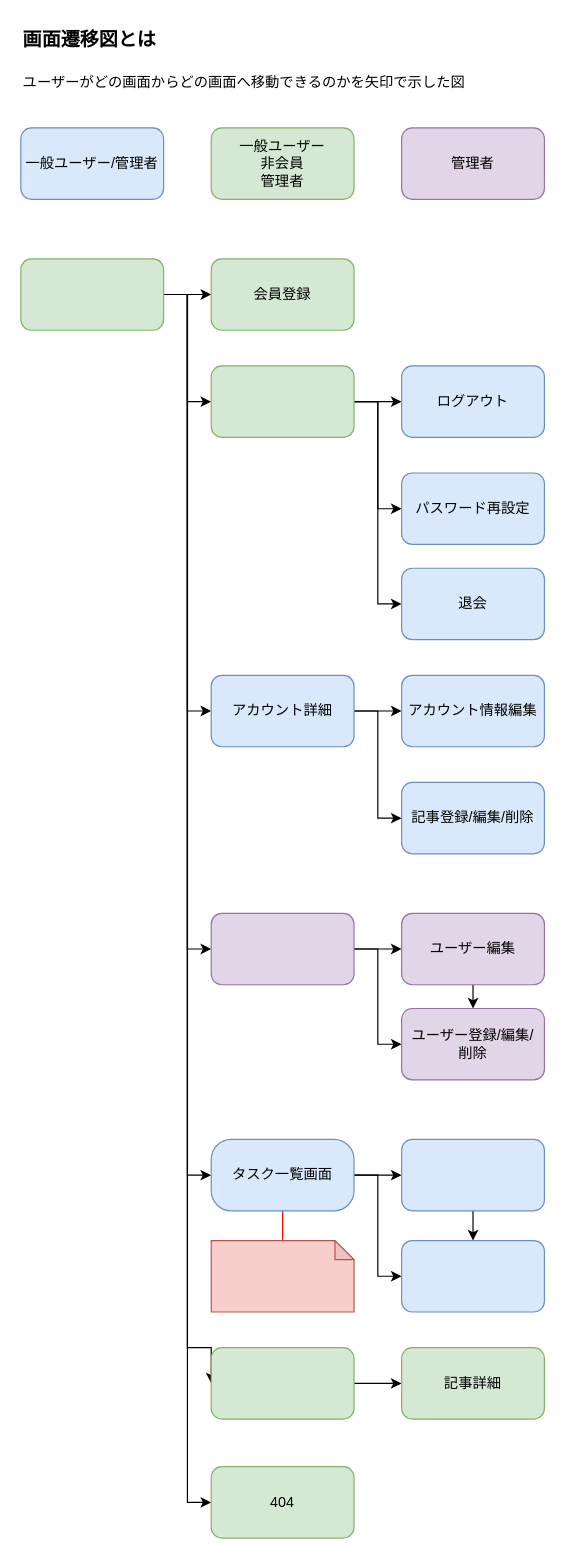
Image size: 565x1559. Some labels were removed from this diagram. The shapes that lost their labels are listed below. From the top down, each one's box as (x1, y1, x2, y2) in pixels, then its label:
(20, 258, 164, 330): トップページ
(210, 365, 354, 437): ログイン
(210, 912, 354, 985): ユーザー管理
(400, 1138, 544, 1211): タスク詳細
(210, 1239, 354, 1312): CSV import/exportは modalで対応する
(400, 1239, 544, 1312): タスク登録/編集/削除
(210, 1346, 354, 1419): 記事一覧
